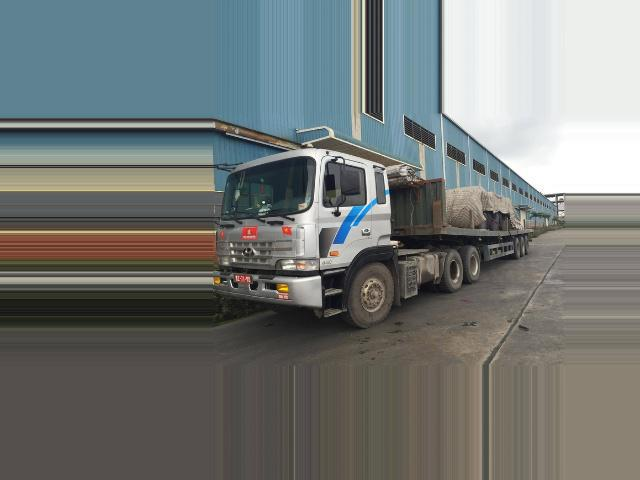License_Plate: (232, 273, 253, 284)
